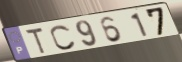1: (130, 11, 149, 38)
6: (99, 15, 123, 44)
7: (143, 6, 167, 37)
9: (75, 19, 100, 48)
C: (49, 24, 78, 51)
T: (24, 26, 48, 56)
